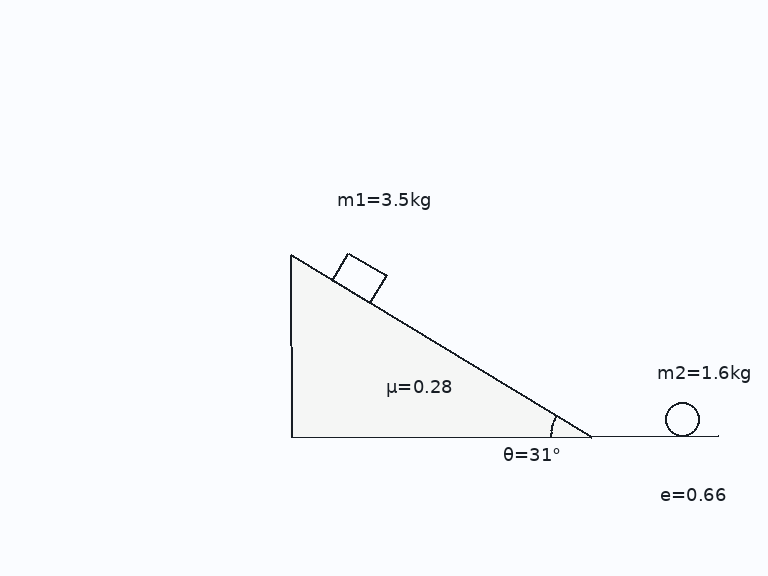ball: (663, 400, 701, 438)
block: (330, 251, 388, 305)
ramp: (289, 254, 593, 438)
